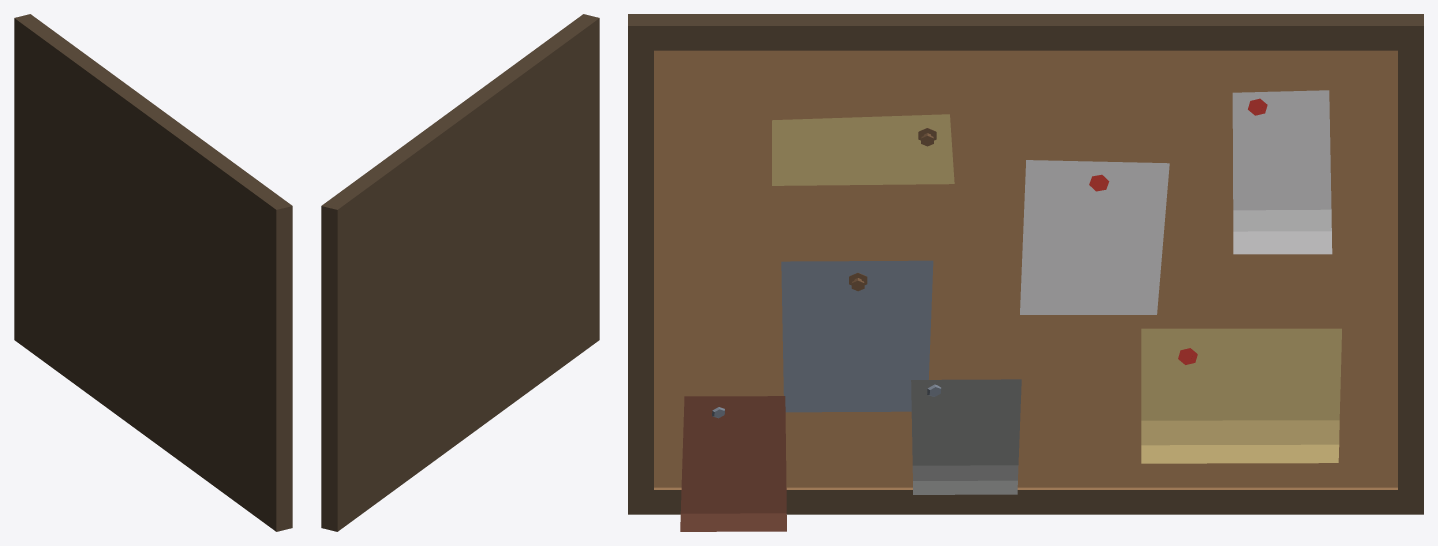
File: SM_Pinboard_02.glb
3 renders of one model, left to right at view 1: azimuth 30°, elevation 25°; view 2: azimuth 150°, elevation 25°; view 3: azimuth 270°, elevation 25°, orthographic. The views are drawn at different scales.
Visible parts, largest first — view 1: SM_Pinboard_02; view 2: SM_Pinboard_02; view 3: SM_Pinboard_02.
Boxes of the visible parts, x1,y1,x2,y2 form: SM_Pinboard_02: (14, 14, 292, 531); SM_Pinboard_02: (321, 14, 599, 531); SM_Pinboard_02: (628, 14, 1423, 531).
Bounding box in the file's own units: 0.1281 × 1.28 × 1.84.
1 material, 1 textured.
